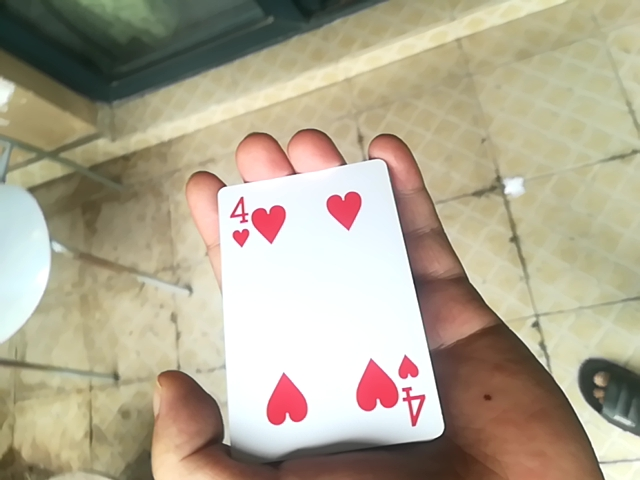hx 4: (216, 150, 451, 453)
